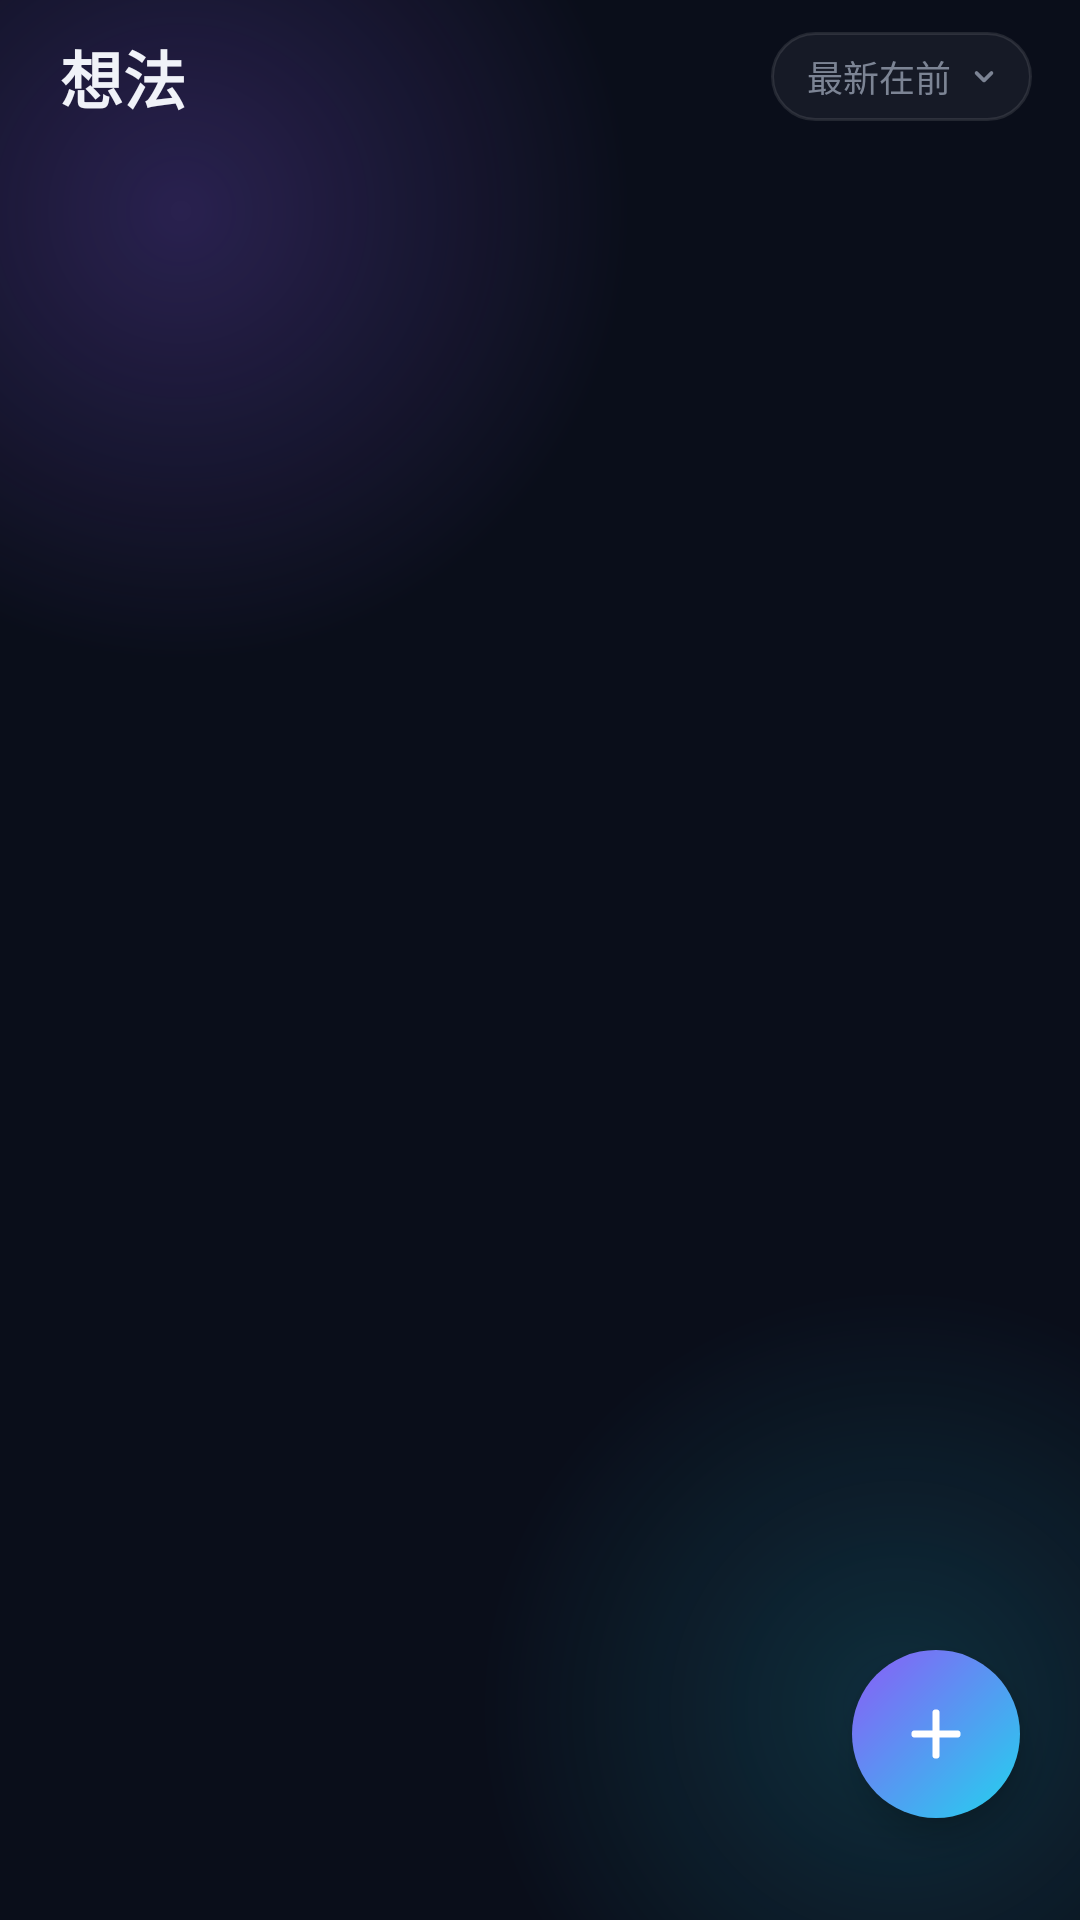

Icon bounding boxes for this 1080px x 1920px phone screenshot, format detection(x1, y1, x2, y2):
add: detection(852, 1650, 1020, 1818)
